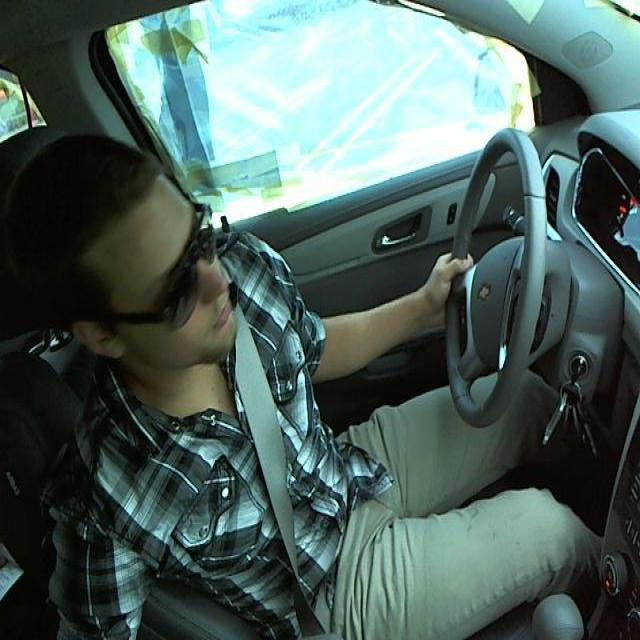seatbelt: (222, 322, 342, 626)
